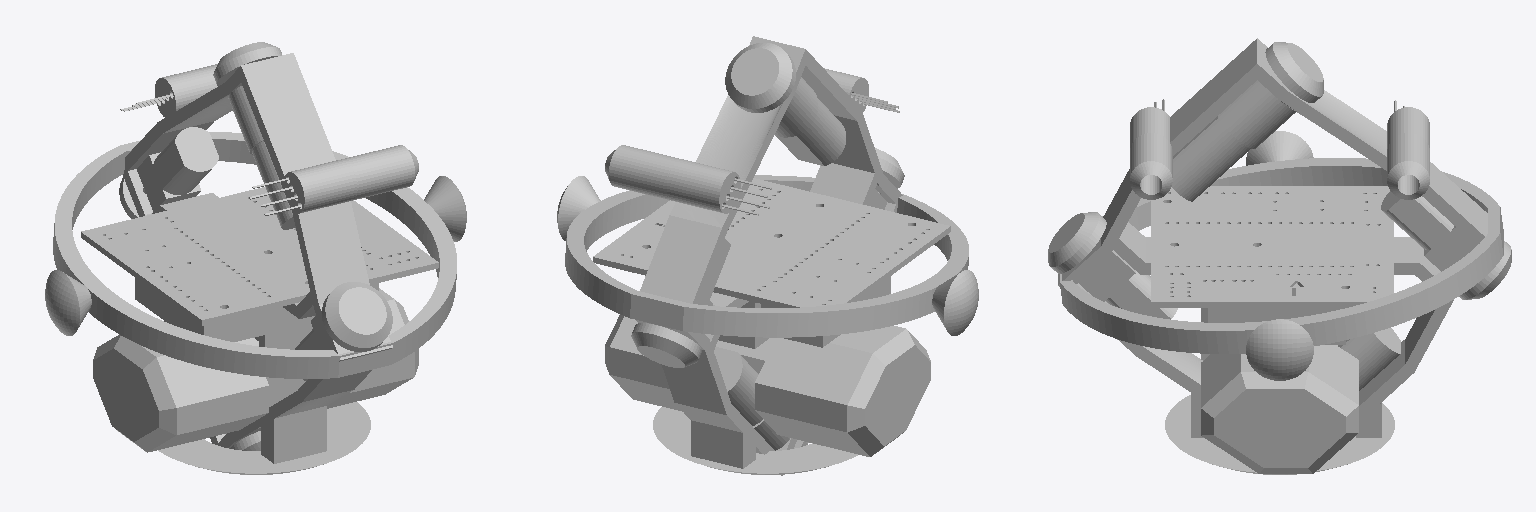
The model's file is Frame Retooling True Color v7.obj.
The picture shows the model from 3 angles: view 1: azimuth 30°, elevation 25°; view 2: azimuth 150°, elevation 25°; view 3: azimuth 270°, elevation 25°; orthographic projection.
Visible parts, largest first — view 1: Body4:8, Body1:8, Body27, Body4:4, Body2:4, Body22, Body23, Body3:3, Body1:2, Body4:1, Body3:6, Body4:7 (+8 smaller); view 2: Body4:8, Body1:8, Body2:4, Body27, Body4:4, Body22, Body23, Body3:2, Body2:8, Body1:7, Body2:7, Body4:2 (+8 smaller); view 3: Body1:8, Body4:8, Body22, Body3:7, Body27, Body23, Body2:8, Body4:2, Body21, Body2:2, Body2:7, Body4:7 (+12 smaller).
Boxes of the visible parts, x1,y1,x2,y2 form: Body4:8: [120, 53, 392, 463]; Body1:8: [81, 187, 438, 325]; Body27: [53, 146, 339, 378]; Body4:4: [93, 334, 176, 452]; Body2:4: [142, 338, 268, 451]; Body22: [209, 132, 456, 364]; Body23: [158, 402, 370, 474]; Body3:3: [322, 282, 392, 351]; Body1:2: [135, 278, 378, 341]; Body4:1: [153, 127, 218, 194]; Body3:6: [285, 159, 356, 213]; Body4:7: [345, 145, 418, 199]; Body4:8: [630, 36, 903, 475]; Body1:8: [593, 178, 950, 307]; Body2:4: [740, 326, 905, 456]; Body27: [683, 195, 968, 337]; Body4:4: [847, 329, 930, 456]; Body22: [565, 175, 814, 317]; Body23: [653, 407, 857, 474]; Body3:2: [725, 43, 795, 112]; Body2:8: [609, 316, 742, 411]; Body1:7: [667, 159, 740, 213]; Body2:7: [605, 145, 678, 199]; Body4:2: [776, 99, 845, 165]; Body1:8: [1151, 186, 1393, 307]; Body4:8: [1058, 38, 1503, 437]; Body22: [1060, 233, 1503, 353]; Body3:7: [1201, 372, 1358, 473]; Body27: [1102, 158, 1499, 230]; Body23: [1165, 395, 1394, 474]; Body2:8: [1201, 345, 1358, 407]; Body4:2: [1172, 116, 1250, 201]; Body21: [1246, 319, 1313, 380]; Body2:2: [1218, 80, 1295, 148]; Body2:7: [1387, 133, 1429, 199]; Body4:7: [1130, 133, 1172, 199].
Size of the model in its own units: 4.58 by 4.5 by 4.5.